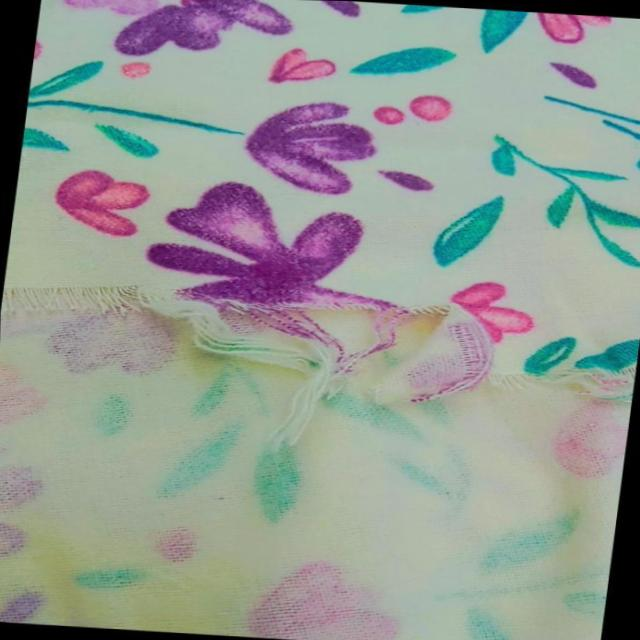cut: (24, 254, 552, 422)
